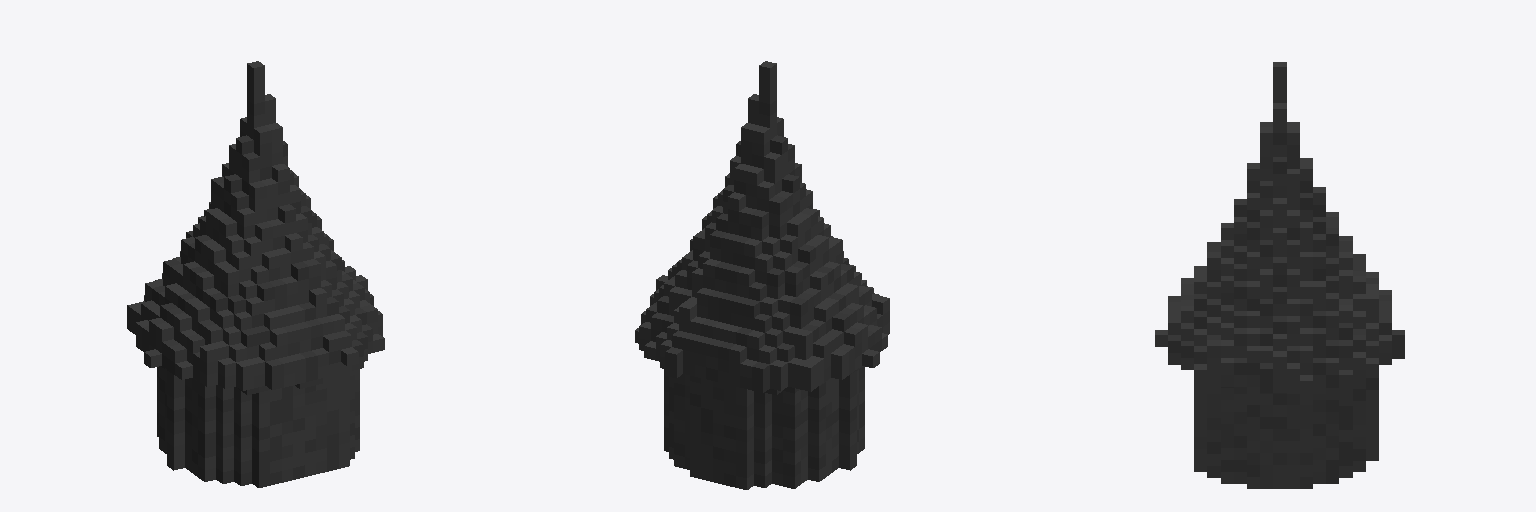
3 views of the same model, side by side, from view 1: azimuth 30°, elevation 25°; view 2: azimuth 150°, elevation 25°; view 3: azimuth 270°, elevation 25° (orthographic).
Parts seen in each view (by area): view 1: object 1; view 2: object 1; view 3: object 1.
Boxes of the visible parts, box(x1,y1,x2,y2) form: object 1: box(127, 61, 384, 487); object 1: box(635, 61, 889, 489); object 1: box(1155, 62, 1404, 488).
Bounding box in the file's own units: 1.9 × 3.2 × 1.9.
Materials: 1 (1 with a texture image).